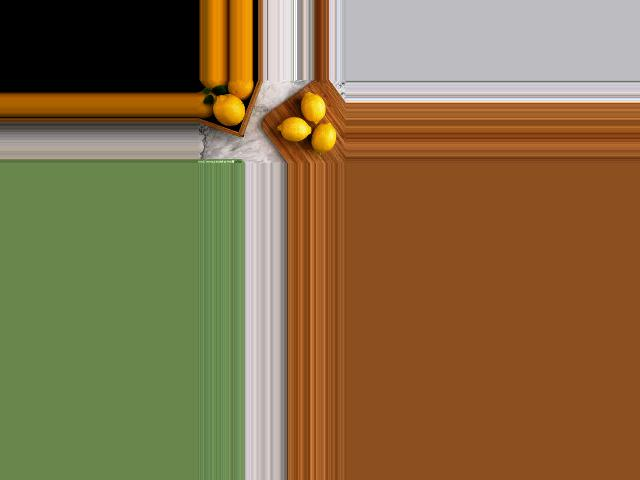lemon: (304, 121, 339, 158)
